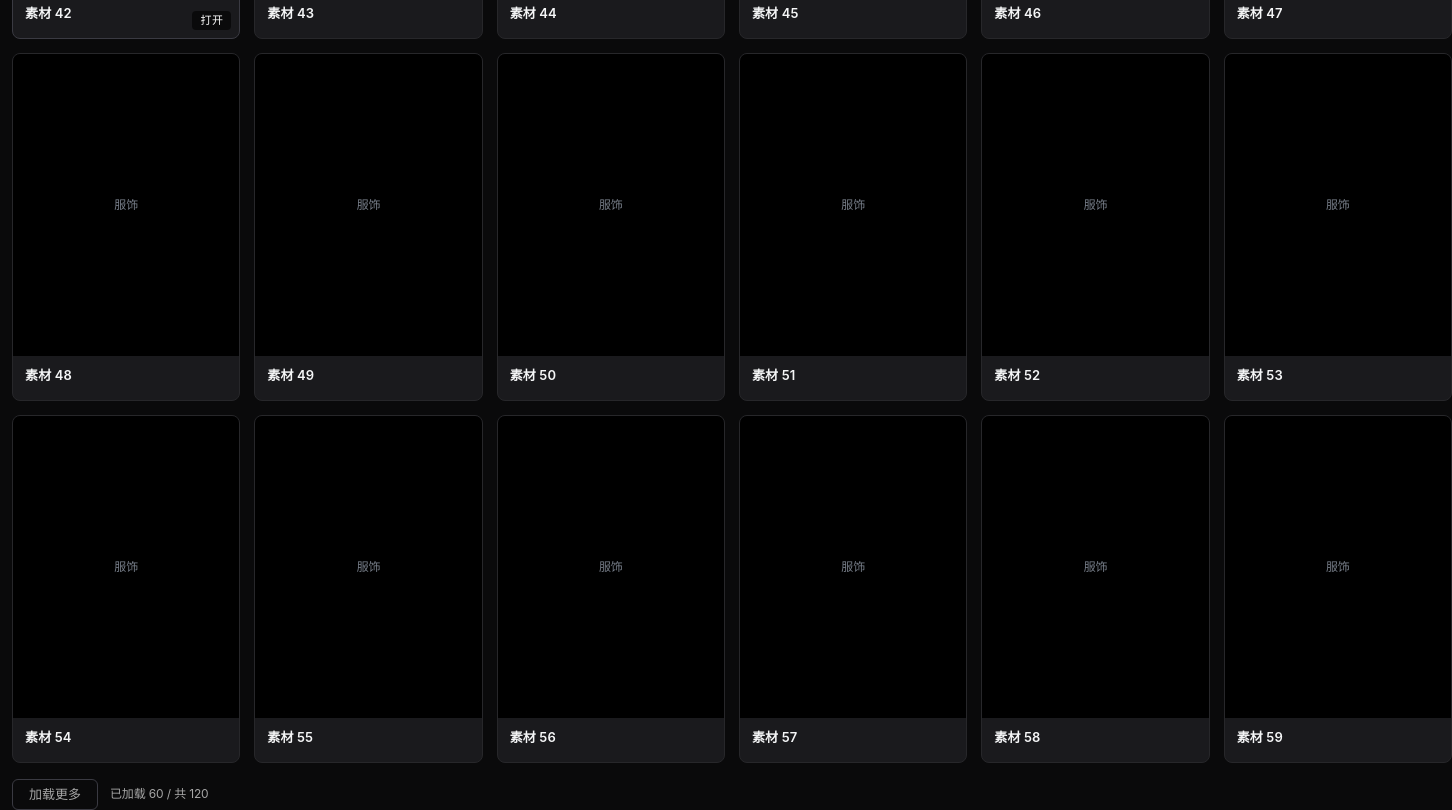
Scenario: AssetsPage offset 分页（移除前端 limit=100 隐形上限） › 加载更多取回 offset=60，越过 100 条上限可达 120
(page scrolled)
Click the button "加载更多": (55, 795) x1=12 y1=779 x2=98 y2=809
(page scrolled)
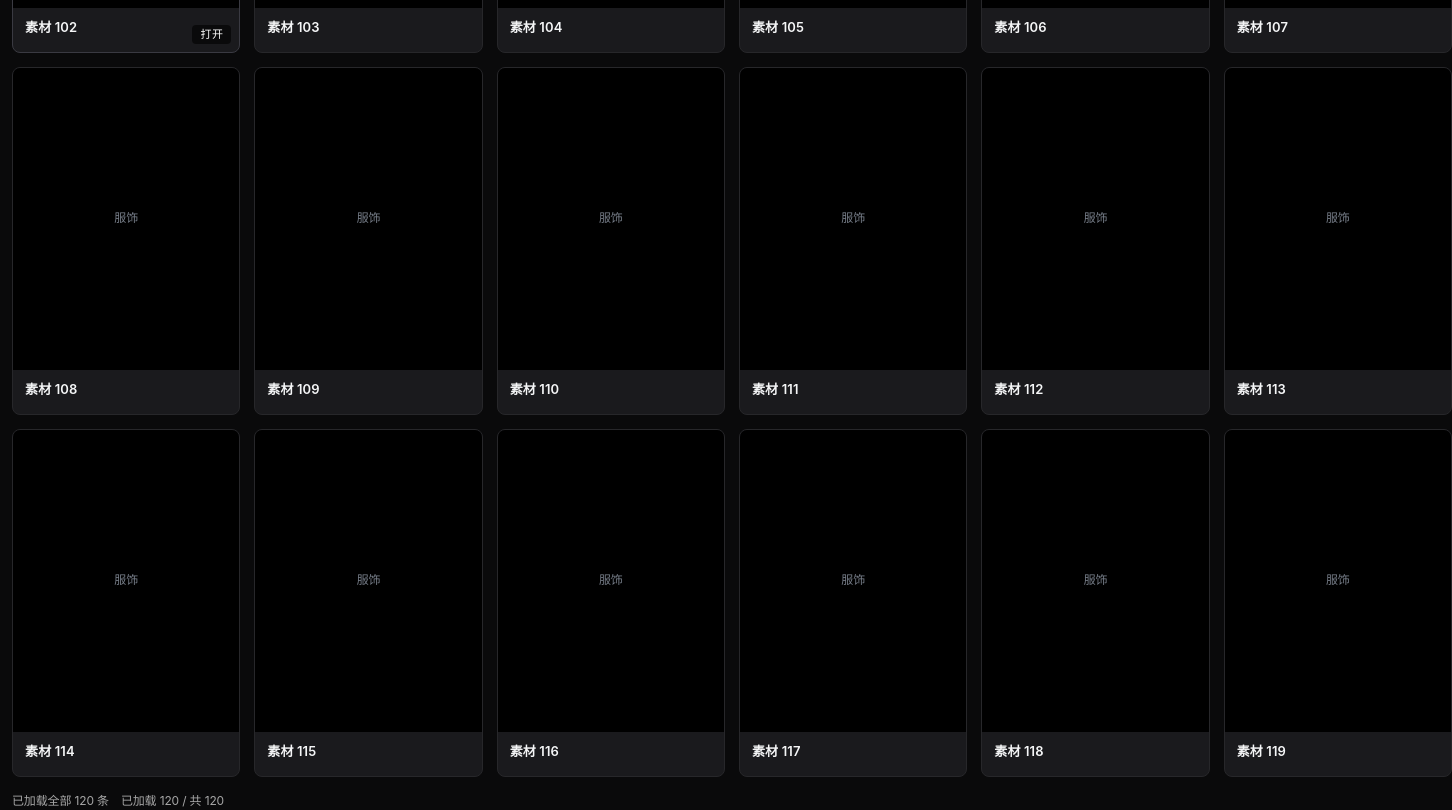
Now the text "已加载全部 120 条" is shown, box x1=12 y1=793 x2=109 y2=809
